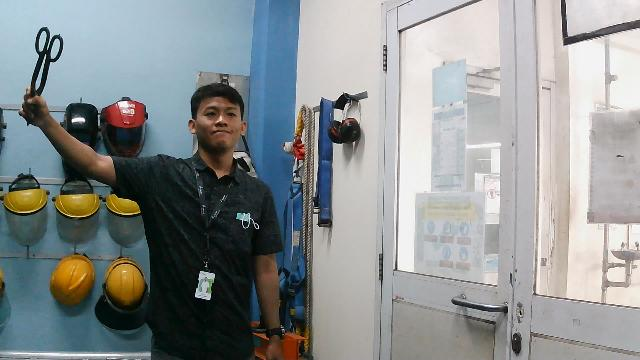gunting_plat: (16, 25, 67, 130)
